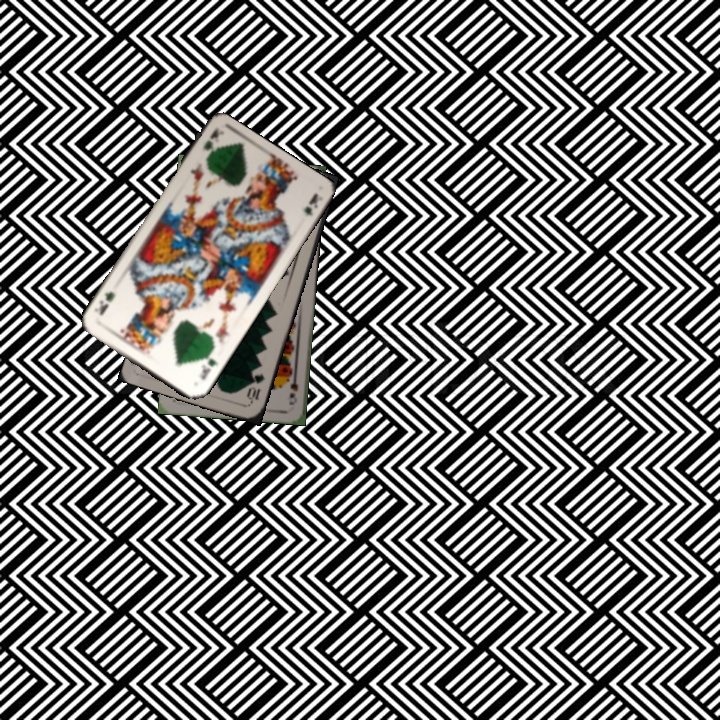G10: (243, 369, 268, 406)
GK: (195, 346, 221, 383), (199, 125, 224, 153)
S9: (284, 367, 301, 407)
